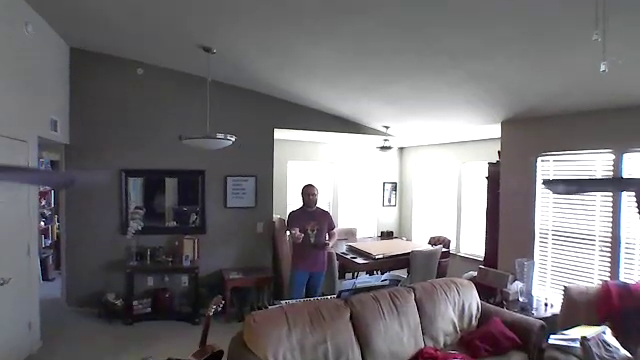land: (287, 223, 308, 245)
